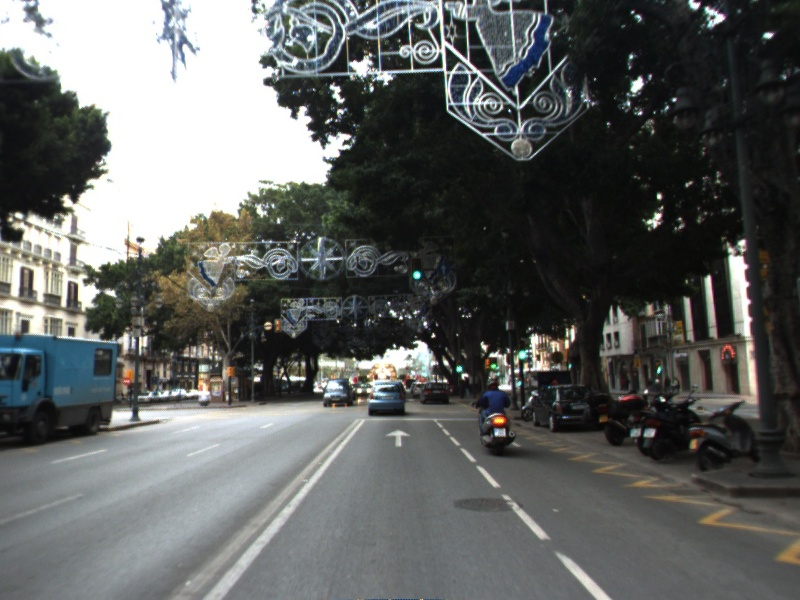STRAIGHT: (384, 427, 413, 449)
